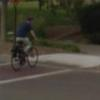bicycles: (11, 39, 38, 72)
